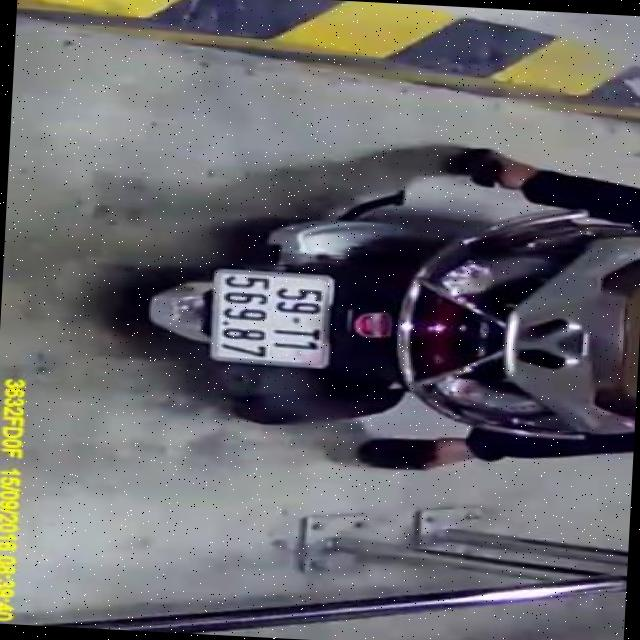license_plate: (204, 269, 335, 371)
